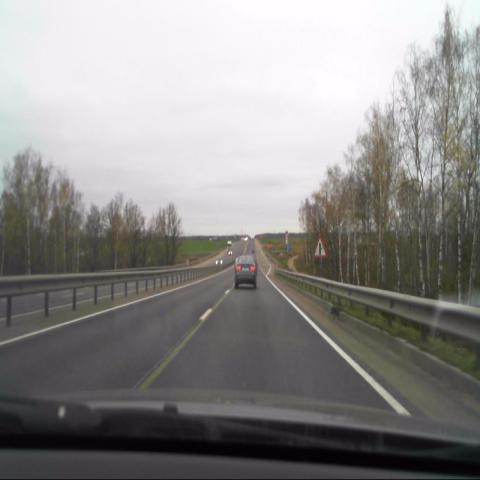2_3_2: (313, 236, 326, 258)
